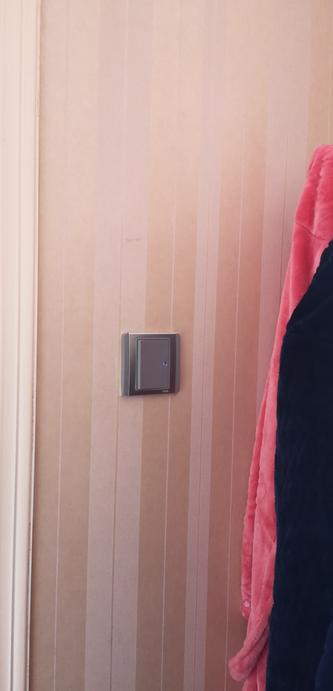switch: (128, 334, 178, 395)
